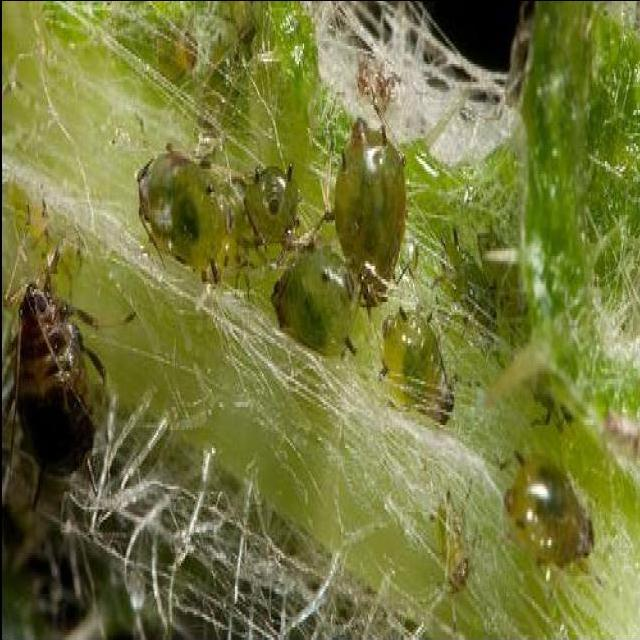aphid: (2, 259, 104, 502), (127, 138, 300, 275), (320, 120, 408, 312), (498, 452, 596, 596), (440, 215, 529, 340), (264, 244, 350, 357), (373, 306, 452, 422), (432, 472, 468, 602), (514, 367, 576, 432)
